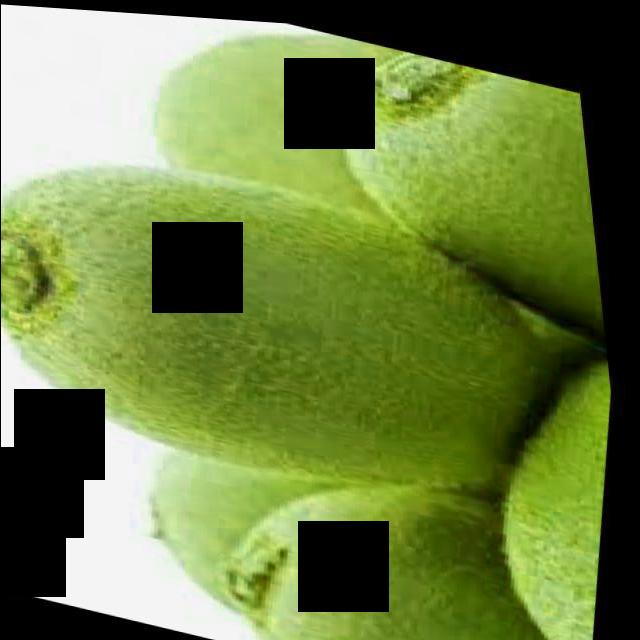kiwi: (1, 113, 565, 530), (314, 32, 612, 327), (209, 440, 602, 640), (144, 12, 424, 225), (128, 437, 347, 629)
